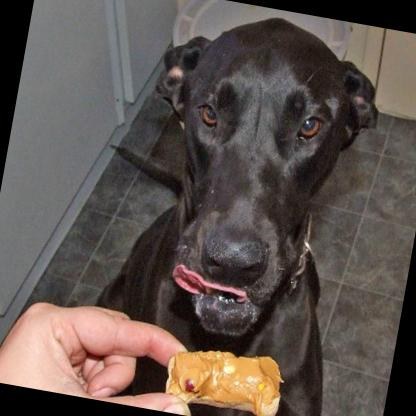Great_Dane: (75, 0, 396, 416)
